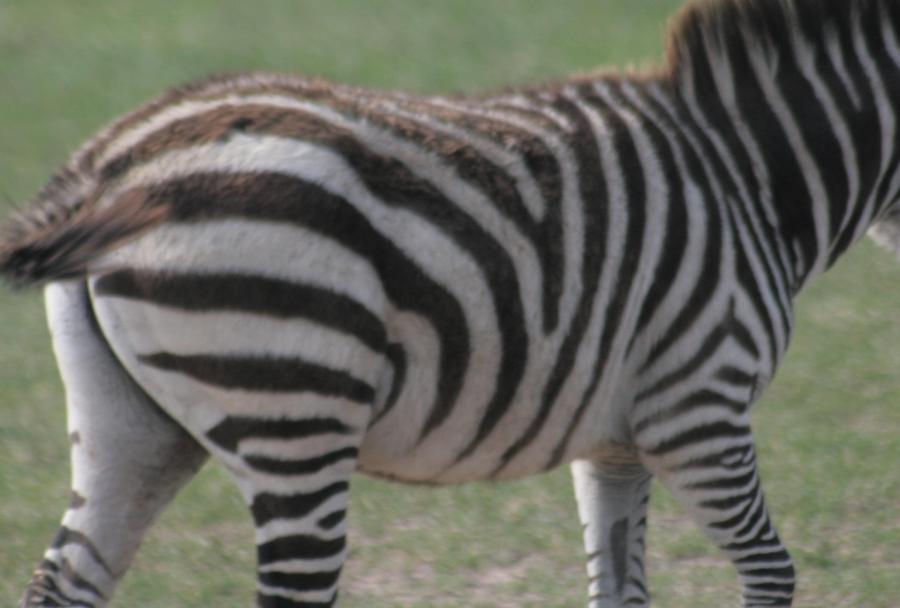zebra_plains: (146, 61, 792, 491)
